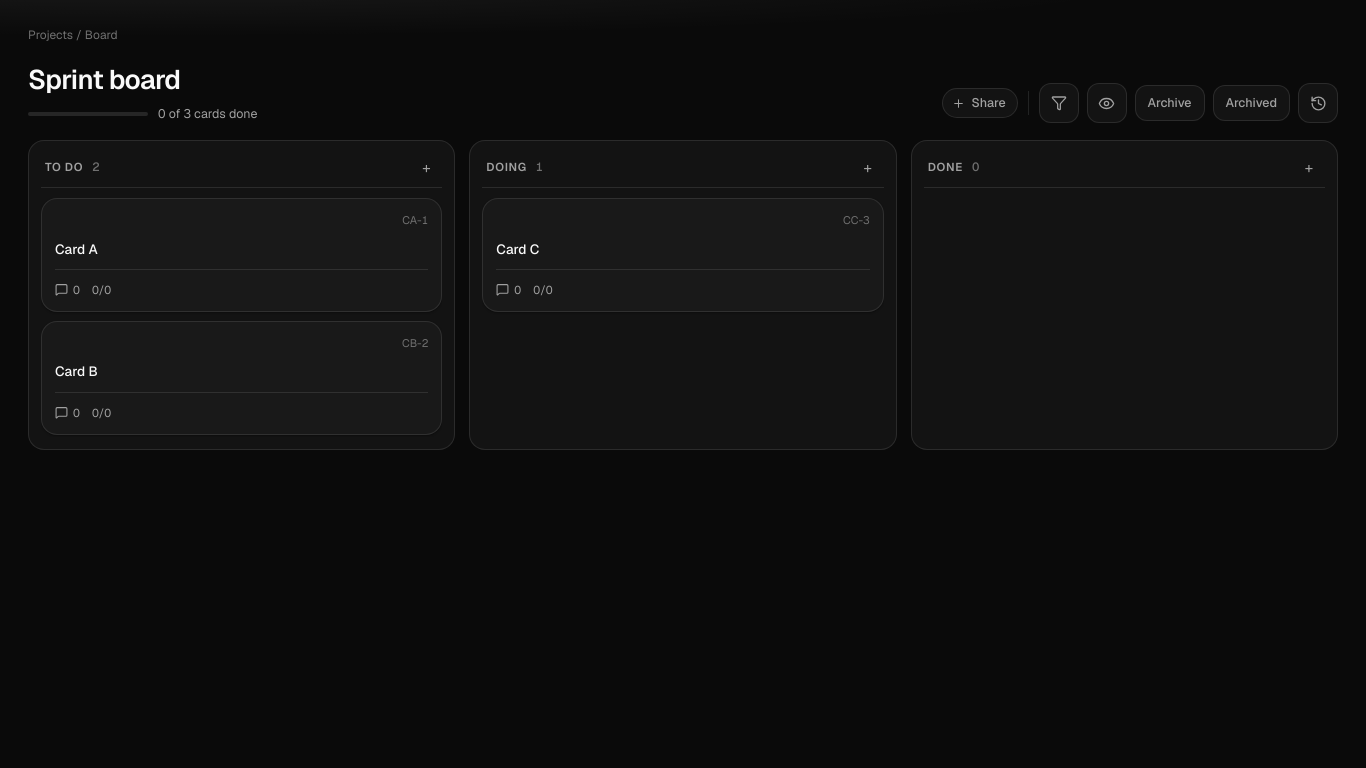
Scenario: ProjectBoard › drops editing controls and keeps commenting after a self-demote to COMMENT
The width and height of the screenshot is (1366, 768).
Click the button "Share": {"x": 980, "y": 103} [942,88,1018,118]
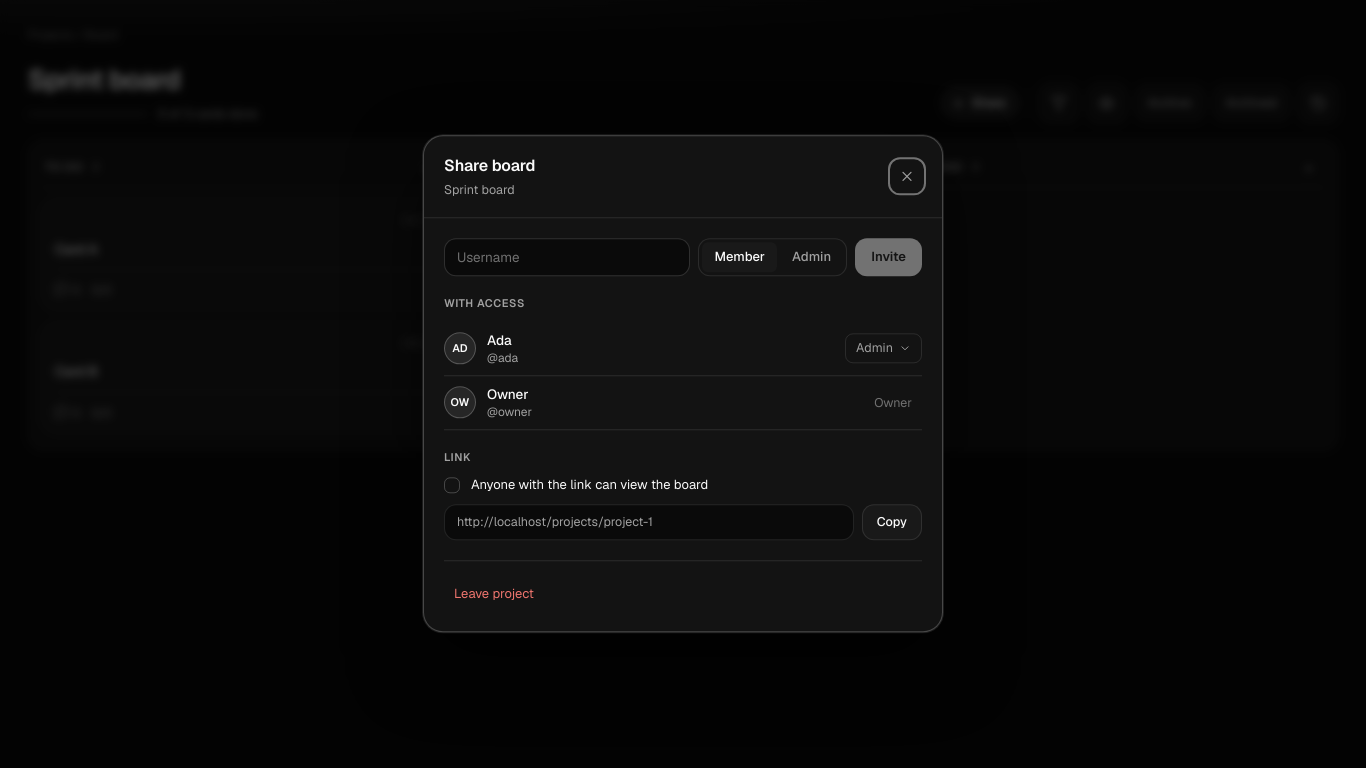
Click the button with aria-label "Change permission": {"x": 884, "y": 348} [845,334,922,364]
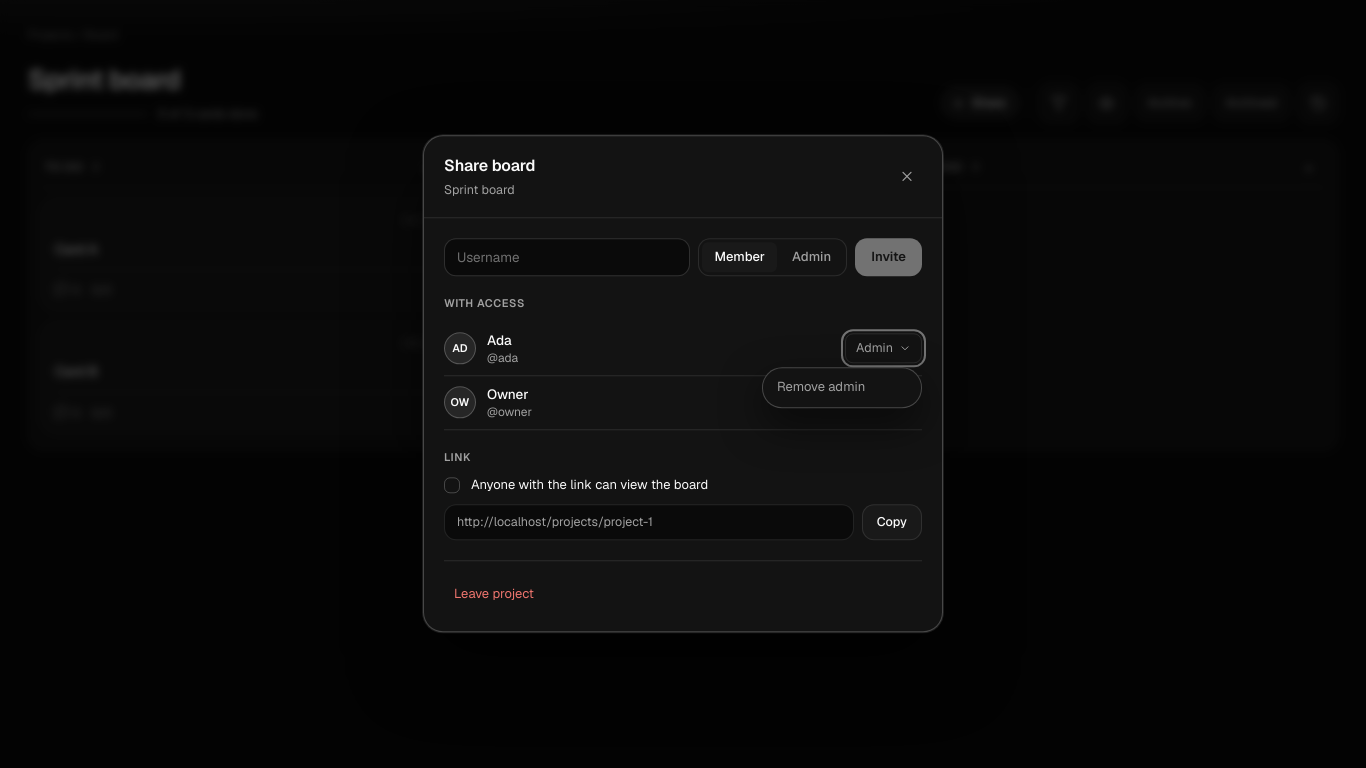
Click the menu item "Remove admin": {"x": 842, "y": 388} [767,372,917,403]
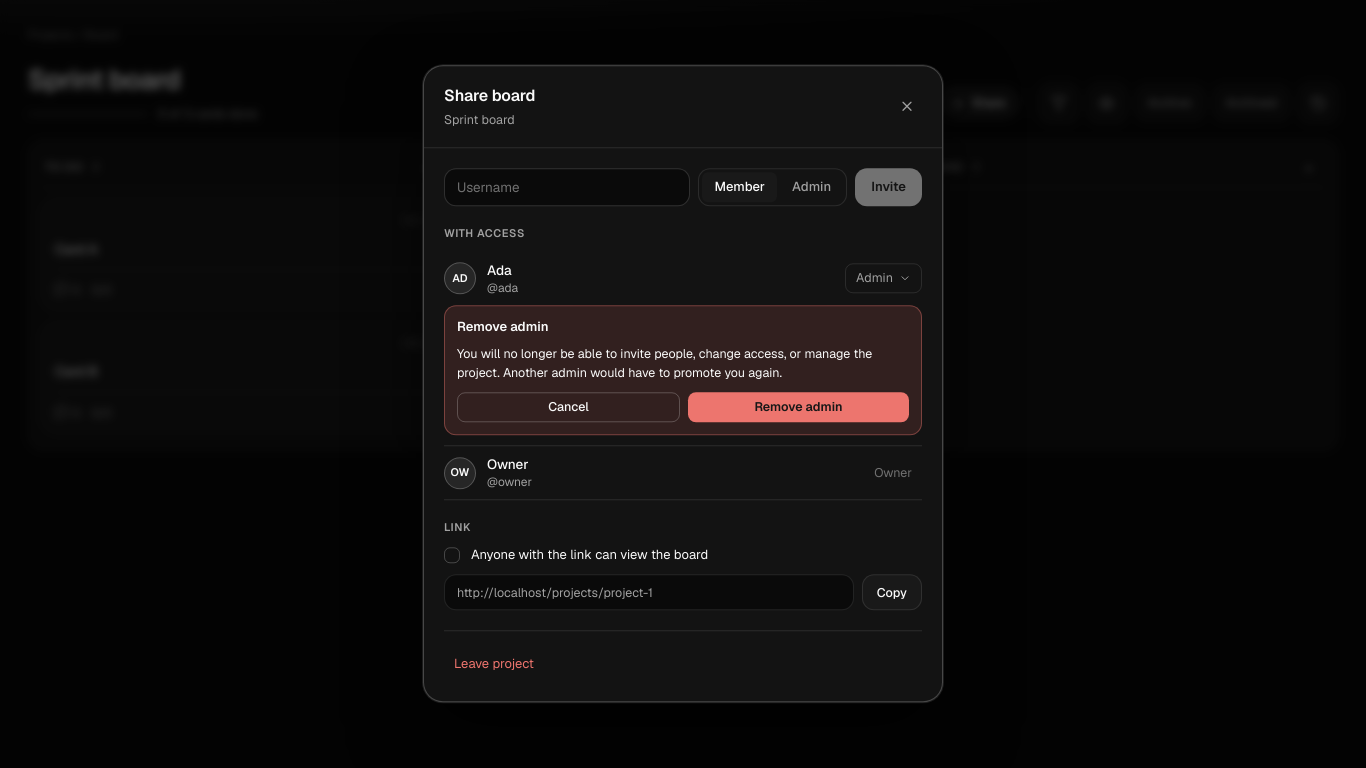
Click the button "Remove admin": {"x": 798, "y": 407} [688,392,909,422]
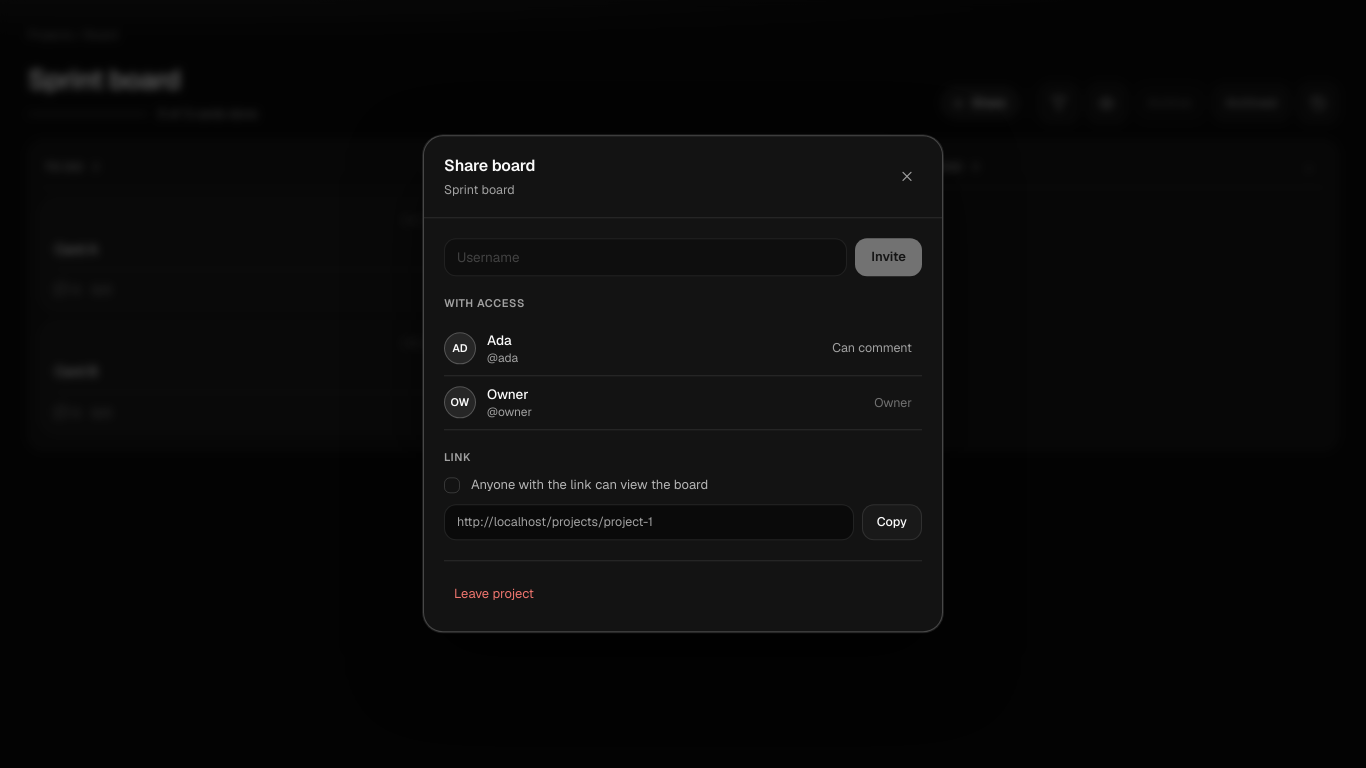
Click the button named "Close": {"x": 907, "y": 177} [892,162,922,192]
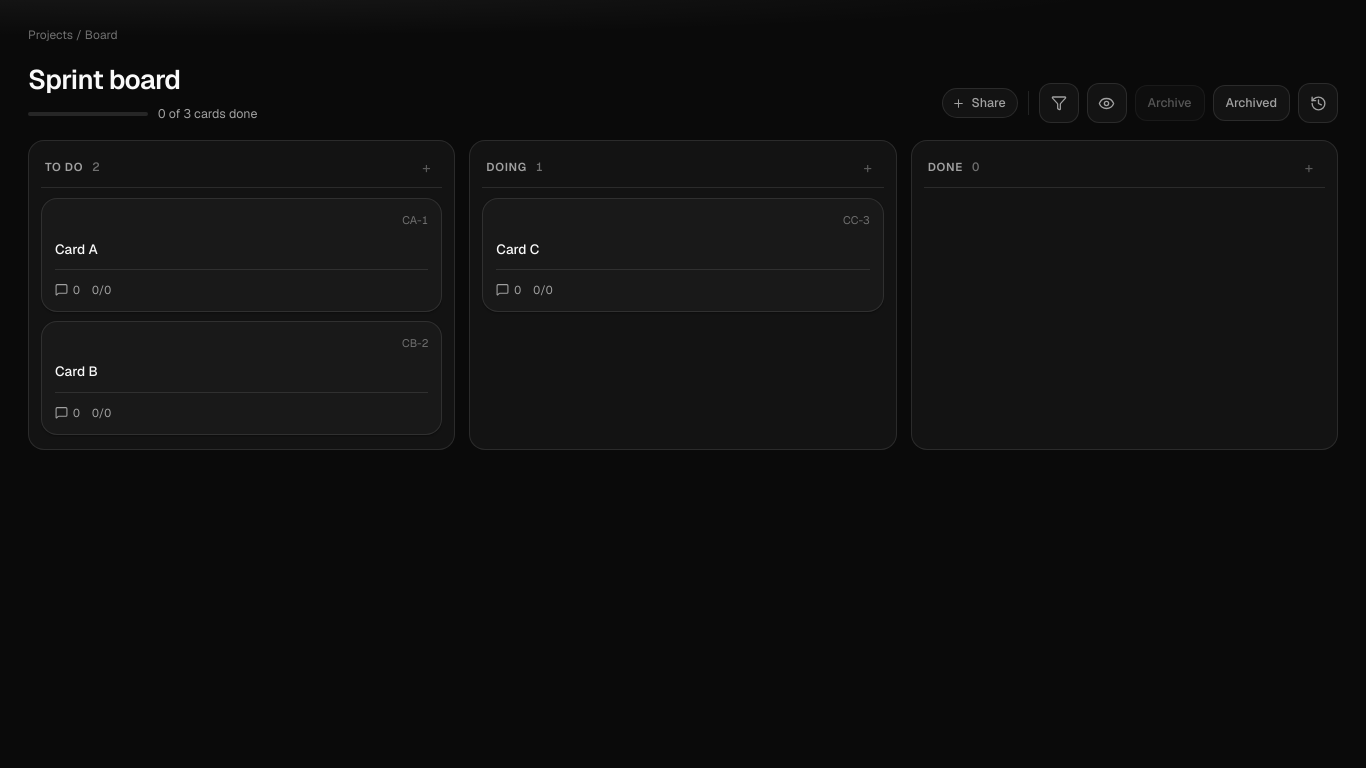
Expected: the button named "Add card to To do" is disabled, [414,155,438,179]
Click the heading "Card A": {"x": 76, "y": 248} [55,240,98,258]
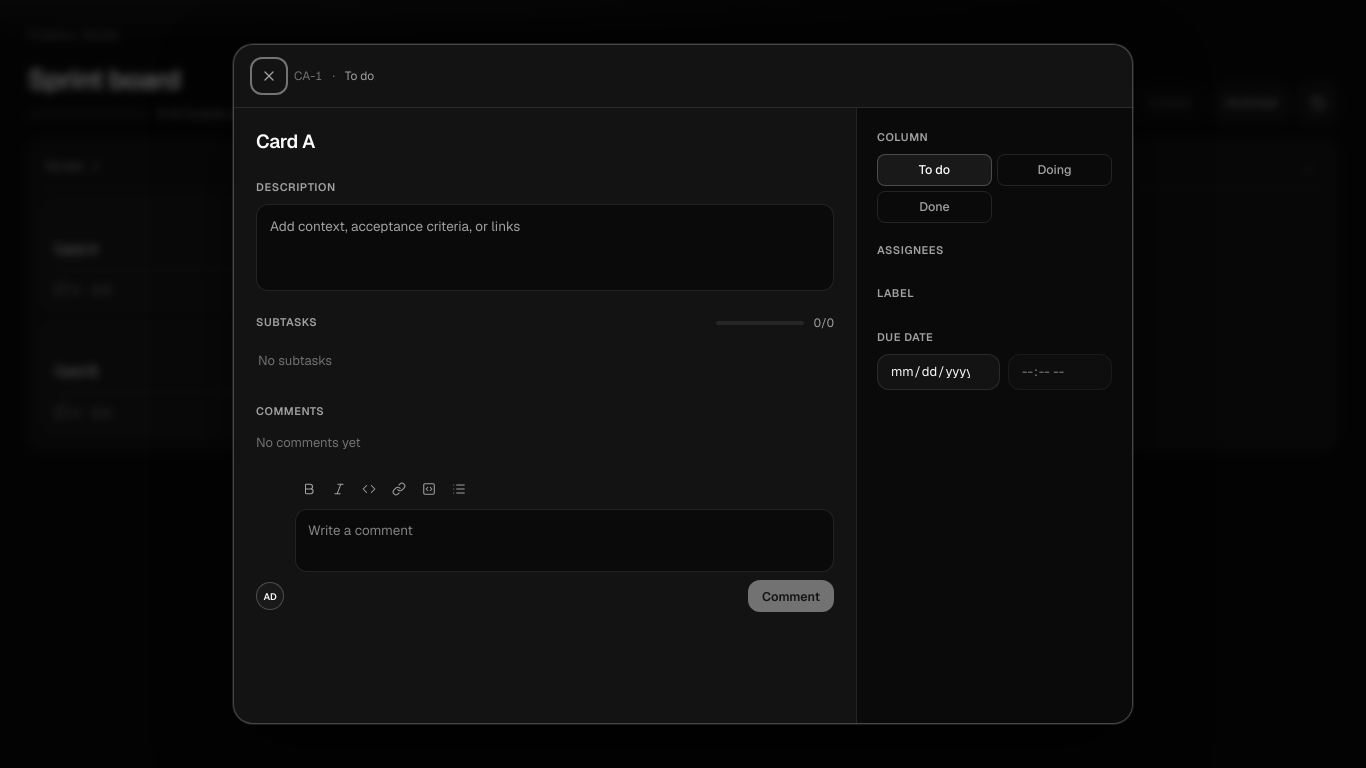
Expected: the text box labelled "Write a comment" is shown, [295,509,834,572]
